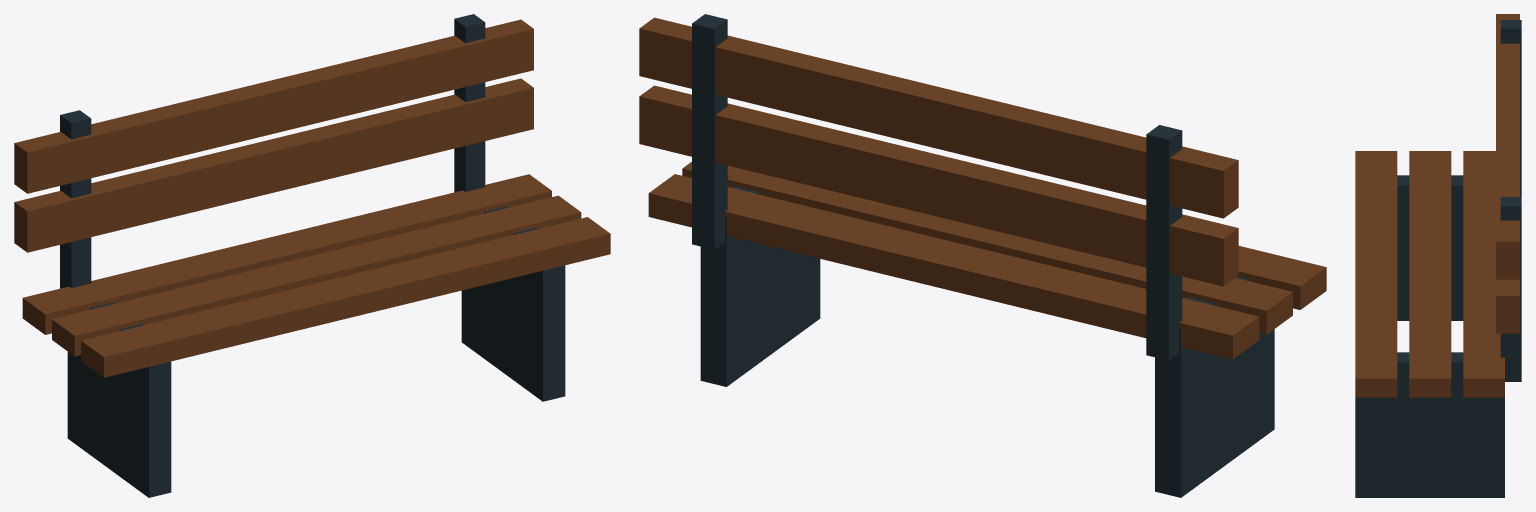
Rendered from bench.glb.
3 views of the same model, side by side, from view 1: azimuth 30°, elevation 25°; view 2: azimuth 150°, elevation 25°; view 3: azimuth 270°, elevation 25° (orthographic). The views are drawn at different scales.
Parts seen in each view (by area): view 1: bench_VISUAL; view 2: bench_VISUAL; view 3: bench_VISUAL.
Part boxes in pixels (<box>): bench_VISUAL: <box>14,14,610,497</box>; bench_VISUAL: <box>639,14,1326,497</box>; bench_VISUAL: <box>1355,14,1521,497</box>.
Size of what is drawn, in the model's own units: 6.43 by 3.84 by 1.98.
Materials: 2 (2 with a texture image).
